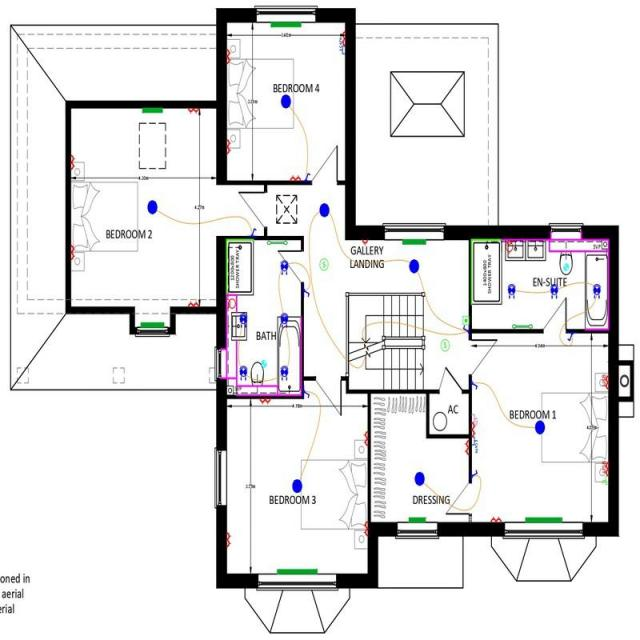Cat 6 Data Socket: (471, 436, 478, 452), (338, 36, 344, 53)
Ceiling Mounted Continuous Extract FanWith Boost Mode Activated By Light Switch: (562, 262, 568, 270), (260, 359, 266, 366)
Co-Ax TV Socket: (471, 414, 477, 424)
D: (226, 532, 231, 547)
Double Socket: (470, 422, 476, 436), (338, 30, 344, 44), (187, 299, 198, 306), (362, 430, 367, 445), (490, 515, 500, 522), (362, 521, 367, 535), (188, 107, 198, 114), (289, 174, 300, 180), (226, 138, 230, 154), (260, 398, 270, 404), (226, 48, 230, 63), (70, 154, 74, 168), (70, 244, 74, 258), (464, 440, 468, 454)
Full Height Tiling: (470, 238, 501, 303), (225, 238, 253, 294)
Light Switch: (302, 172, 310, 180), (566, 332, 574, 340), (471, 380, 478, 389), (303, 390, 310, 398), (470, 469, 478, 476), (249, 228, 256, 235), (303, 289, 309, 296), (462, 324, 468, 331)
Low Energy Downlighter: (506, 282, 516, 298), (548, 283, 558, 298), (279, 365, 288, 380), (279, 259, 287, 275), (279, 312, 287, 327), (238, 365, 246, 380), (592, 283, 600, 298), (240, 312, 247, 327)
Low Energy Pendant Light: (146, 199, 157, 214), (318, 202, 329, 217), (291, 478, 302, 492), (408, 258, 418, 273), (534, 419, 544, 434), (280, 94, 290, 108), (414, 471, 424, 485)
Mains Wired Smoke Detector: (439, 338, 449, 351), (318, 258, 328, 270)
Programmable Room Thermostat: (462, 315, 468, 324)
Radiator: (276, 568, 317, 574), (524, 517, 562, 522), (270, 21, 300, 26), (402, 238, 426, 244), (140, 322, 163, 327), (408, 516, 425, 522), (142, 107, 162, 112)
Shaver Socket: (503, 238, 513, 254), (225, 298, 238, 308)
Single Socket: (362, 239, 367, 245)
Telephone Socket: (601, 475, 607, 484)
USB Double Socket: (600, 372, 608, 390), (600, 460, 608, 474)
